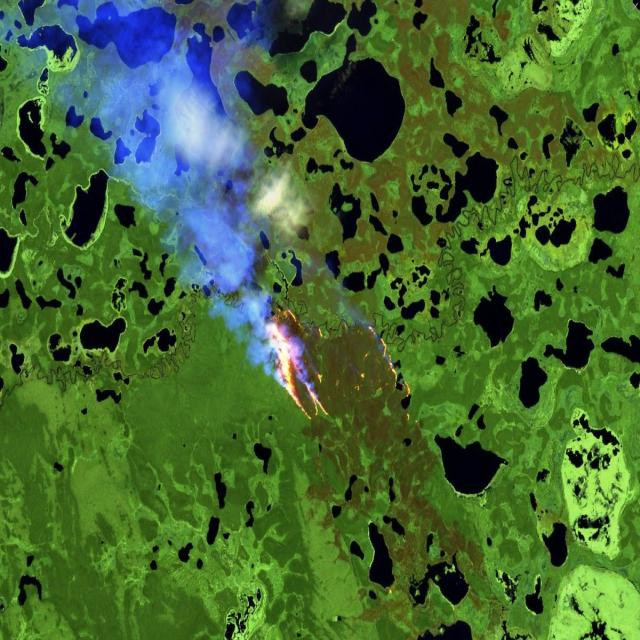fire: (260, 294, 427, 463), (383, 580, 398, 603)
